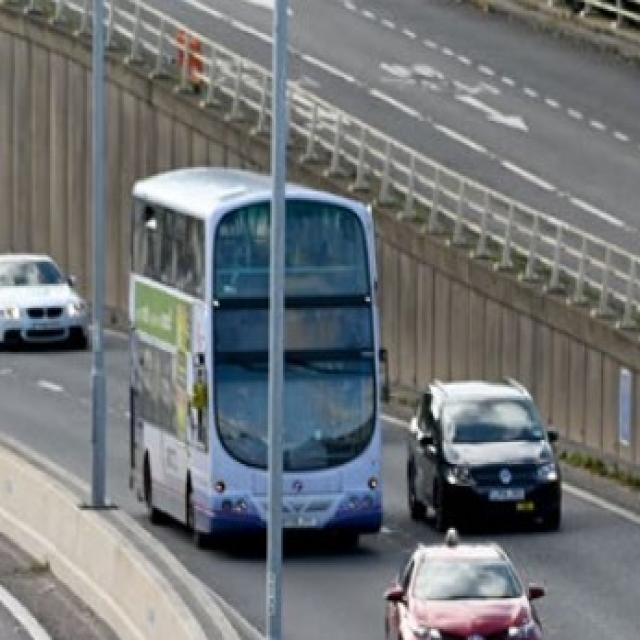bus: (125, 163, 387, 544)
car: (408, 376, 568, 530), (381, 534, 548, 640), (1, 245, 91, 352)
